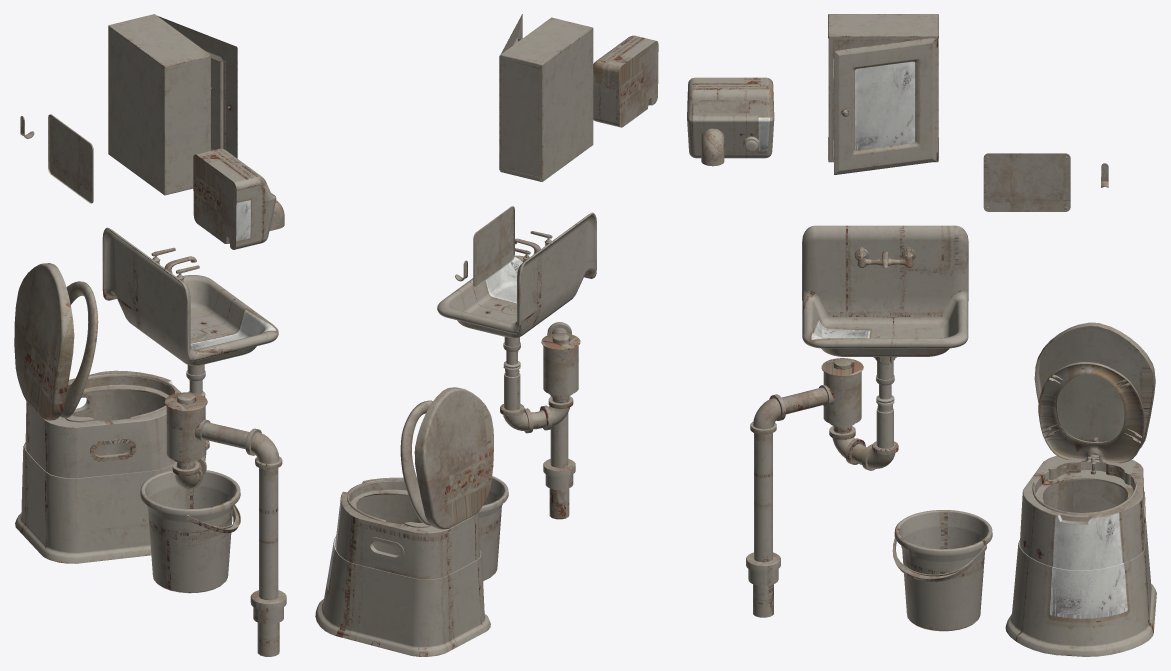
The picture shows the model from 3 angles, left to right: view 1: azimuth 30°, elevation 25°; view 2: azimuth 150°, elevation 25°; view 3: azimuth 270°, elevation 25°; orthographic projection. The views are drawn at different scales.
Parts seen in each view (by area): view 1: Object_36, Object_4, Object_16, Object_32, Object_26, Object_42, Object_14, Object_30, Object_40, Object_6, Object_54, Object_24 (+3 smaller); view 2: Object_36, Object_4, Object_16, Object_42, Object_14, Object_26, Object_24, Object_30, Object_32, Object_40, Object_54, Object_6; view 3: Object_36, Object_16, Object_32, Object_42, Object_6, Object_26, Object_14, Object_30, Object_54, Object_8, Object_4, Object_24 (+3 smaller).
Part boxes in pixels (bbox=[...]): Object_36: bbox=[15, 370, 180, 563]; Object_4: bbox=[108, 14, 210, 195]; Object_16: bbox=[102, 227, 278, 365]; Object_32: bbox=[140, 470, 240, 593]; Object_26: bbox=[164, 392, 286, 656]; Object_42: bbox=[14, 263, 74, 420]; Object_14: bbox=[193, 148, 284, 249]; Object_30: bbox=[48, 114, 93, 203]; Object_40: bbox=[74, 390, 165, 455]; Object_6: bbox=[158, 16, 237, 158]; Object_54: bbox=[60, 281, 98, 418]; Object_24: bbox=[172, 334, 209, 489]; Object_36: bbox=[315, 477, 490, 656]; Object_4: bbox=[500, 17, 593, 181]; Object_16: bbox=[437, 212, 596, 338]; Object_42: bbox=[414, 387, 493, 529]; Object_14: bbox=[593, 35, 658, 127]; Object_26: bbox=[541, 322, 580, 519]; Object_24: bbox=[500, 309, 573, 433]; Object_30: bbox=[473, 206, 514, 286]; Object_32: bbox=[478, 476, 508, 580]; Object_40: bbox=[356, 494, 422, 555]; Object_54: bbox=[400, 400, 432, 525]; Object_6: bbox=[499, 14, 522, 170]; Object_36: bbox=[1005, 455, 1156, 656]; Object_16: bbox=[802, 225, 968, 356]; Object_32: bbox=[894, 510, 992, 631]; Object_42: bbox=[1034, 322, 1155, 457]; Object_6: bbox=[834, 37, 938, 174]; Object_26: bbox=[746, 358, 863, 617]; Object_14: bbox=[687, 77, 774, 166]; Object_30: bbox=[983, 153, 1070, 211]; Object_54: bbox=[1038, 362, 1144, 463]; Object_8: bbox=[855, 61, 915, 150]; Object_4: bbox=[828, 14, 938, 162]; Object_24: bbox=[829, 357, 898, 470].
Size of the model in its own units: 55.79 by 183 by 138.
Materials: 4 (4 with a texture image).
